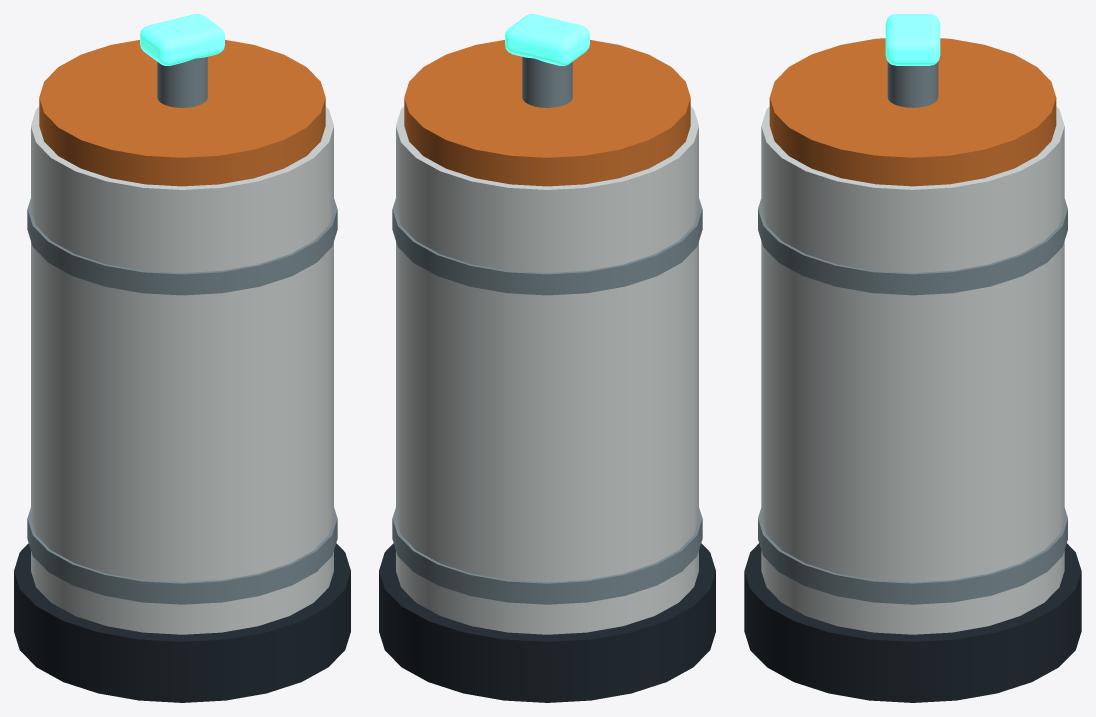
Rendered from water-tank.glb.
3 views of the same model, side by side, from view 1: azimuth 30°, elevation 25°; view 2: azimuth 150°, elevation 25°; view 3: azimuth 270°, elevation 25° (orthographic).
Parts seen in each view (by area): view 1: white, orange, dark, metal, light; view 2: white, orange, dark, metal, light; view 3: white, orange, dark, metal, light.
Part boxes in pixels (<box>): white: <box>31,106,333,634</box>; orange: <box>39,40,325,186</box>; dark: <box>14,543,350,702</box>; metal: <box>27,57,337,604</box>; light: <box>140,14,224,65</box>; white: <box>396,106,698,634</box>; orange: <box>404,40,690,186</box>; dark: <box>379,543,715,702</box>; metal: <box>392,57,702,604</box>; light: <box>505,14,589,65</box>; white: <box>761,106,1064,634</box>; orange: <box>769,38,1056,186</box>; dark: <box>744,543,1081,702</box>; metal: <box>758,61,1067,604</box>; light: <box>885,14,940,65</box>.
Bounding box in the file's own units: 0.8 × 1.58 × 0.8.
